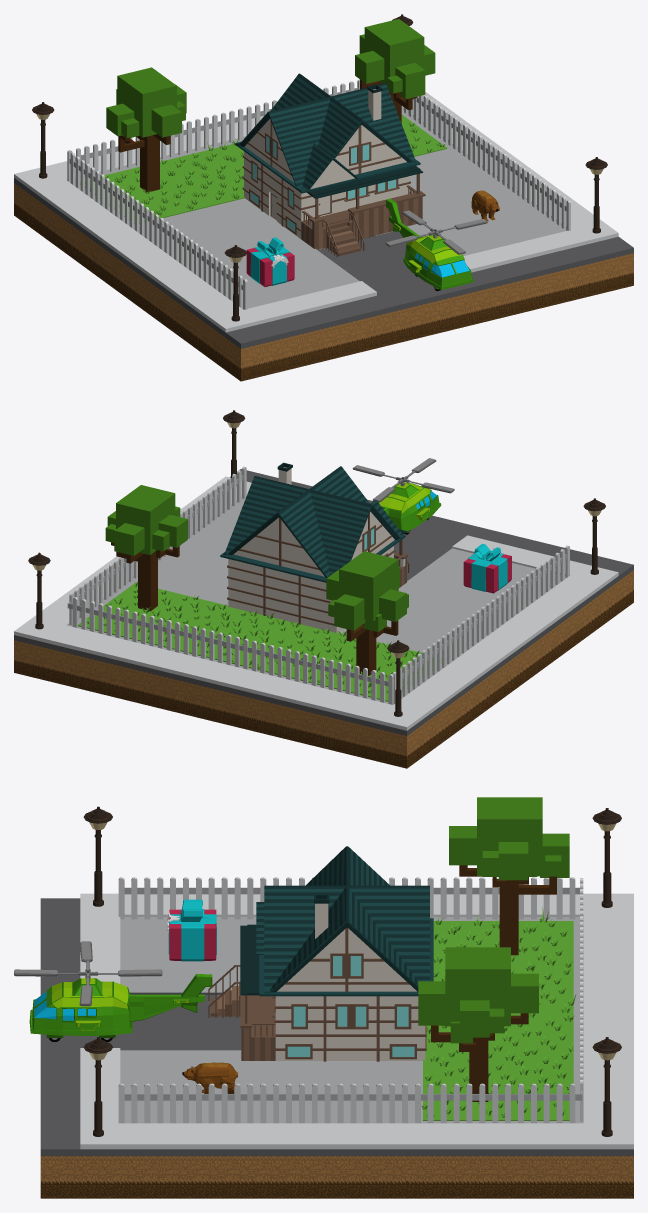
3 renders of one model, top to bottom at view 1: azimuth 30°, elevation 25°; view 2: azimuth 150°, elevation 25°; view 3: azimuth 270°, elevation 25°, orthographic. The views are drawn at different scales.
Parts seen in each view (by area): view 1: Cube.004, Cube.793, VEHICLES_HELICOPTER, OBJRANDOM_GIANT_PRESENT, ANIMAL_OSO; view 2: Cube.004, Cube.793, VEHICLES_HELICOPTER, OBJRANDOM_GIANT_PRESENT; view 3: Cube.004, Cube.793, VEHICLES_HELICOPTER, OBJRANDOM_GIANT_PRESENT, ANIMAL_OSO.
Part boxes in pixels (x1,y1,x2,y2): Cube.004: (14, 14, 633, 381); Cube.793: (235, 73, 425, 257); VEHICLES_HELICOPTER: (385, 198, 487, 291); OBJRANDOM_GIANT_PRESENT: (246, 237, 294, 286); ANIMAL_OSO: (471, 190, 499, 221); Cube.004: (14, 410, 633, 768); Cube.793: (220, 462, 409, 632); VEHICLES_HELICOPTER: (352, 458, 454, 534); OBJRANDOM_GIANT_PRESENT: (463, 543, 511, 593); Cube.004: (40, 797, 633, 1198); Cube.793: (208, 846, 433, 1061); VEHICLES_HELICOPTER: (14, 941, 212, 1041); OBJRANDOM_GIANT_PRESENT: (167, 899, 216, 961); ANIMAL_OSO: (182, 1062, 237, 1093).
Bounding box in the file's own units: 4000 × 1604 × 4179.
28 materials, 4 textured.
